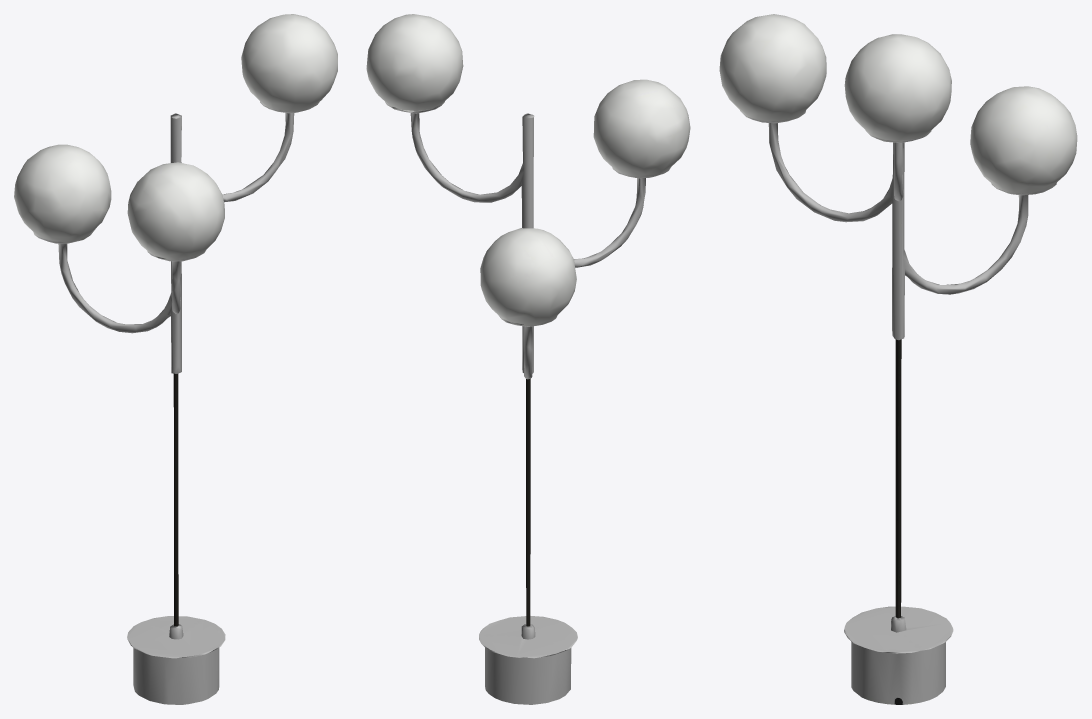
3 renders of one model, left to right at view 1: azimuth 30°, elevation 25°; view 2: azimuth 150°, elevation 25°; view 3: azimuth 270°, elevation 25°, orthographic. The views are drawn at different scales.
Parts seen in each view (by area): view 1: ProcessedMeshNode; view 2: ProcessedMeshNode; view 3: ProcessedMeshNode.
Part boxes in pixels (<box>): ProcessedMeshNode: <box>14,14,337,704</box>; ProcessedMeshNode: <box>366,14,690,704</box>; ProcessedMeshNode: <box>719,14,1077,704</box>.
Size of the model in its own units: 0.4486 by 1.08 by 0.495.
Materials: 1 (1 with a texture image).
